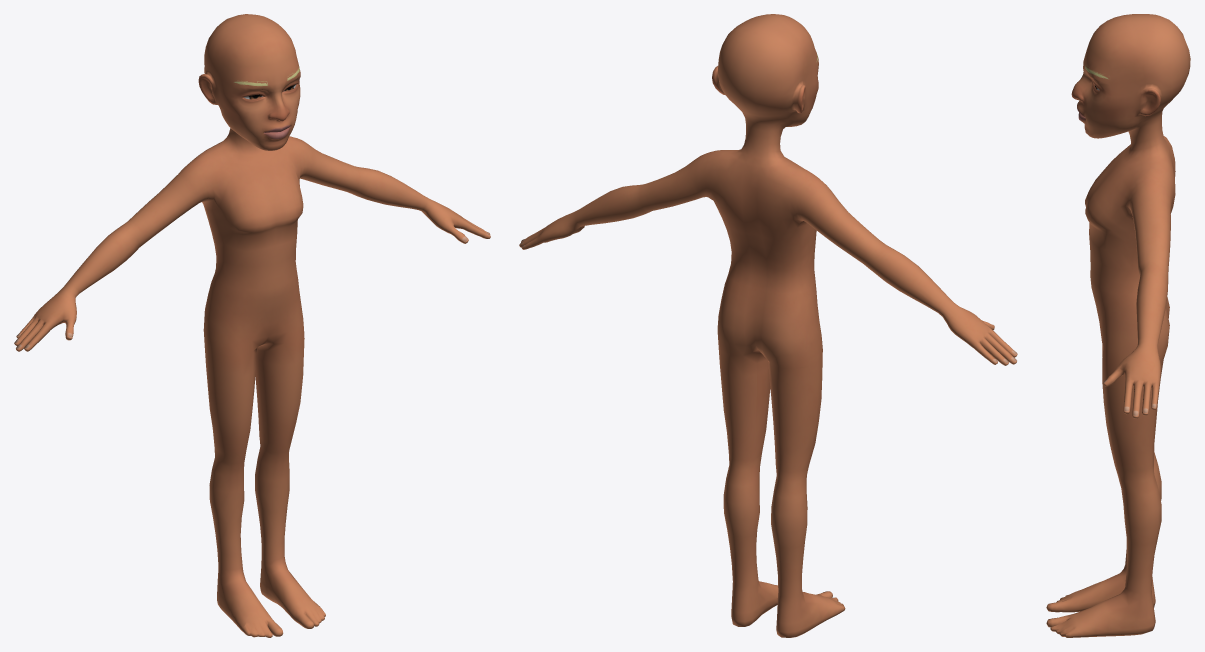
Rendered from frame_0053.glb.
3 views of the same model, side by side, from view 1: azimuth 30°, elevation 25°; view 2: azimuth 150°, elevation 25°; view 3: azimuth 270°, elevation 25° (orthographic). The views are drawn at different scales.
Parts seen in each view (by area): view 1: frame_0053_head_geo; view 2: frame_0053_head_geo; view 3: frame_0053_head_geo.
Part boxes in pixels (left/top/right/bottom): frame_0053_head_geo: left=14, top=14, right=490, bottom=637; frame_0053_head_geo: left=519, top=14, right=1017, bottom=637; frame_0053_head_geo: left=1046, top=14, right=1190, bottom=637.
Size of the model in its own units: 1.28 by 1.5 by 0.3253.
3 materials, 3 textured.
